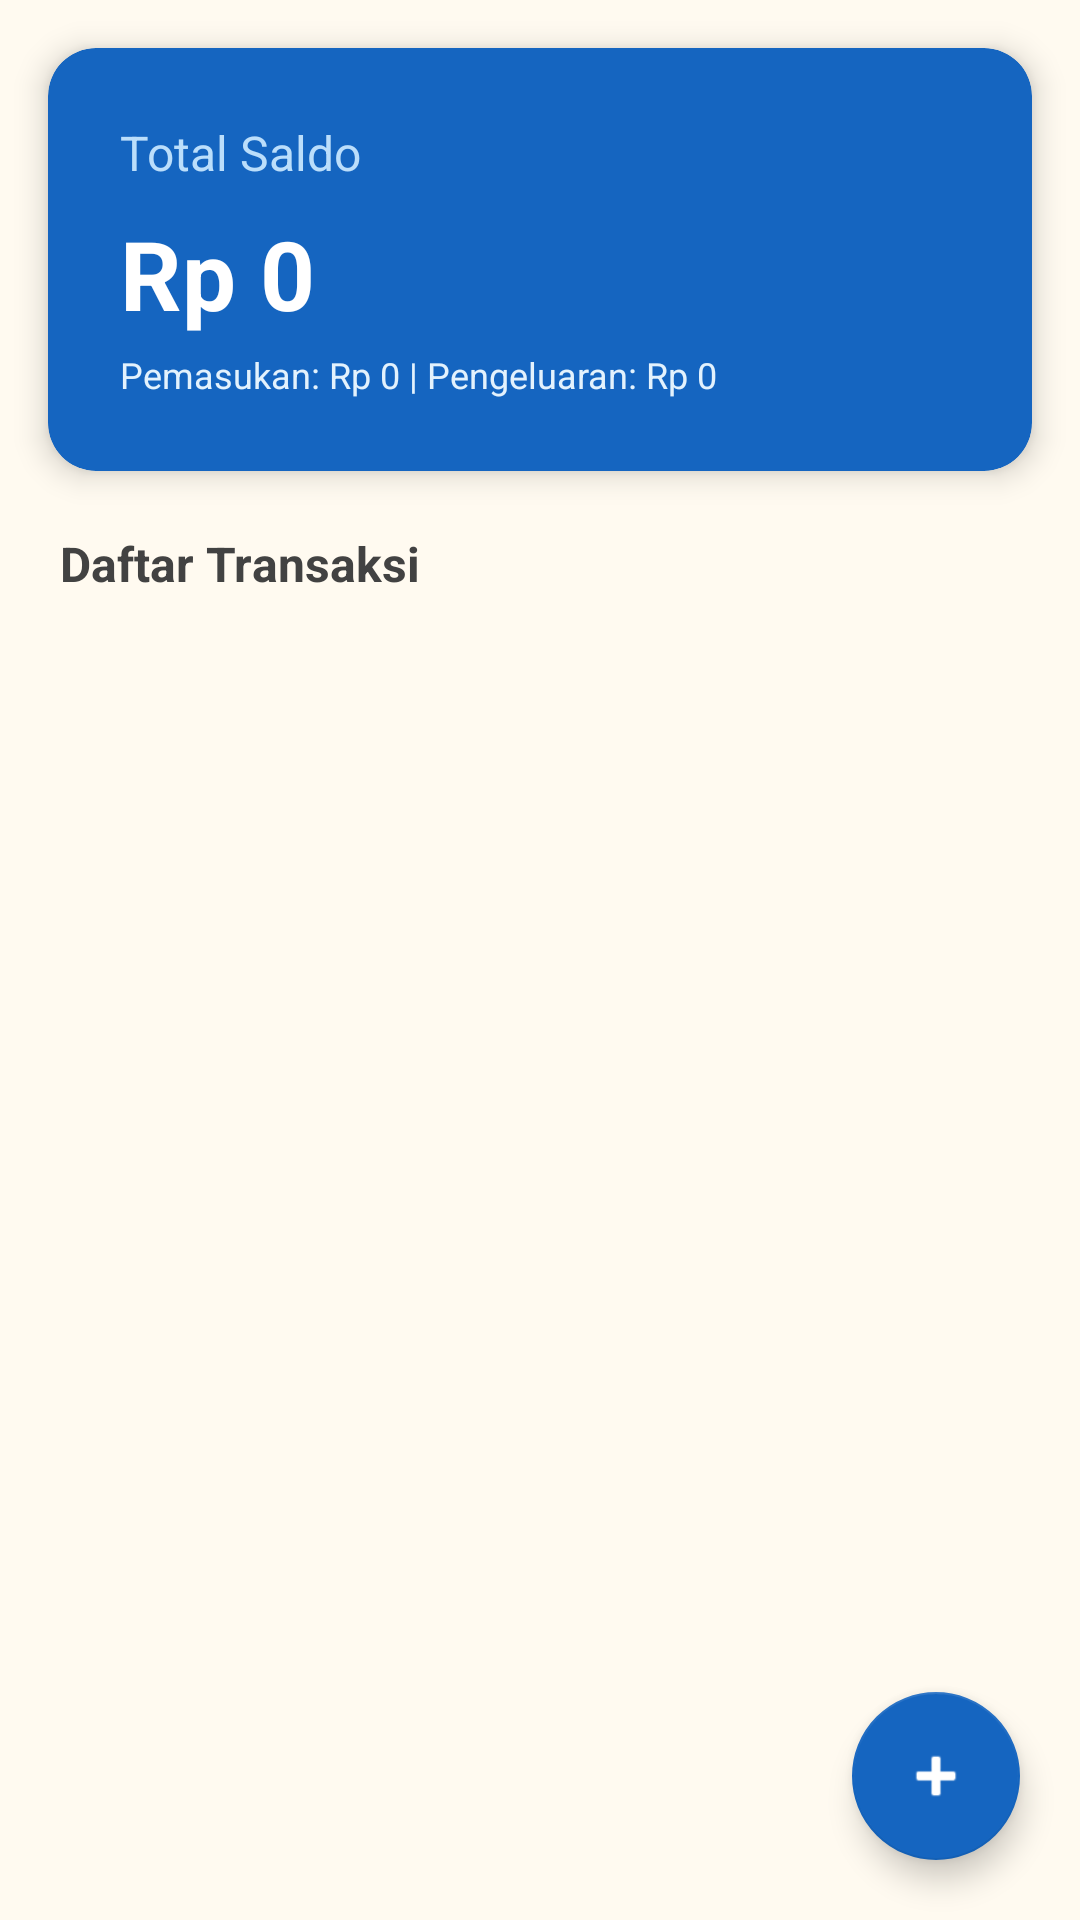

Named icons in this screenshot (1080w x 1920h) and their centers, (x=x, y=y):
Tambah Transaksi: (x=936, y=1776)
